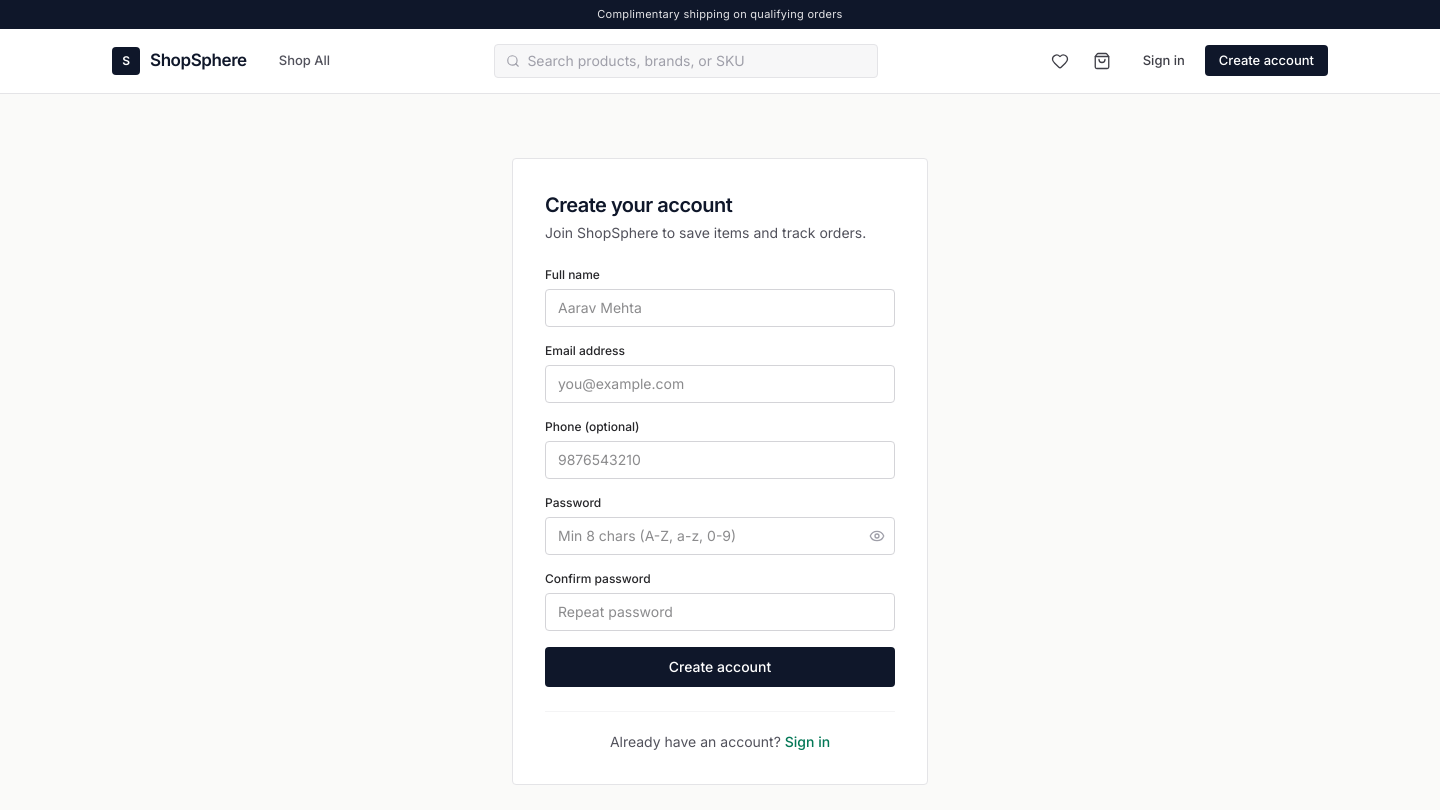
Test: Auth, Protected Routes, and Cart interactions › validates registration password strength before submitting
Expected: the heading "Create your account" is shown, top-left (545, 192), bottom-right (732, 216)
Type "Priya" into the field labelled "Full name".
click(720, 308); type("Priya")  # box top-left (545, 288), bottom-right (895, 326)
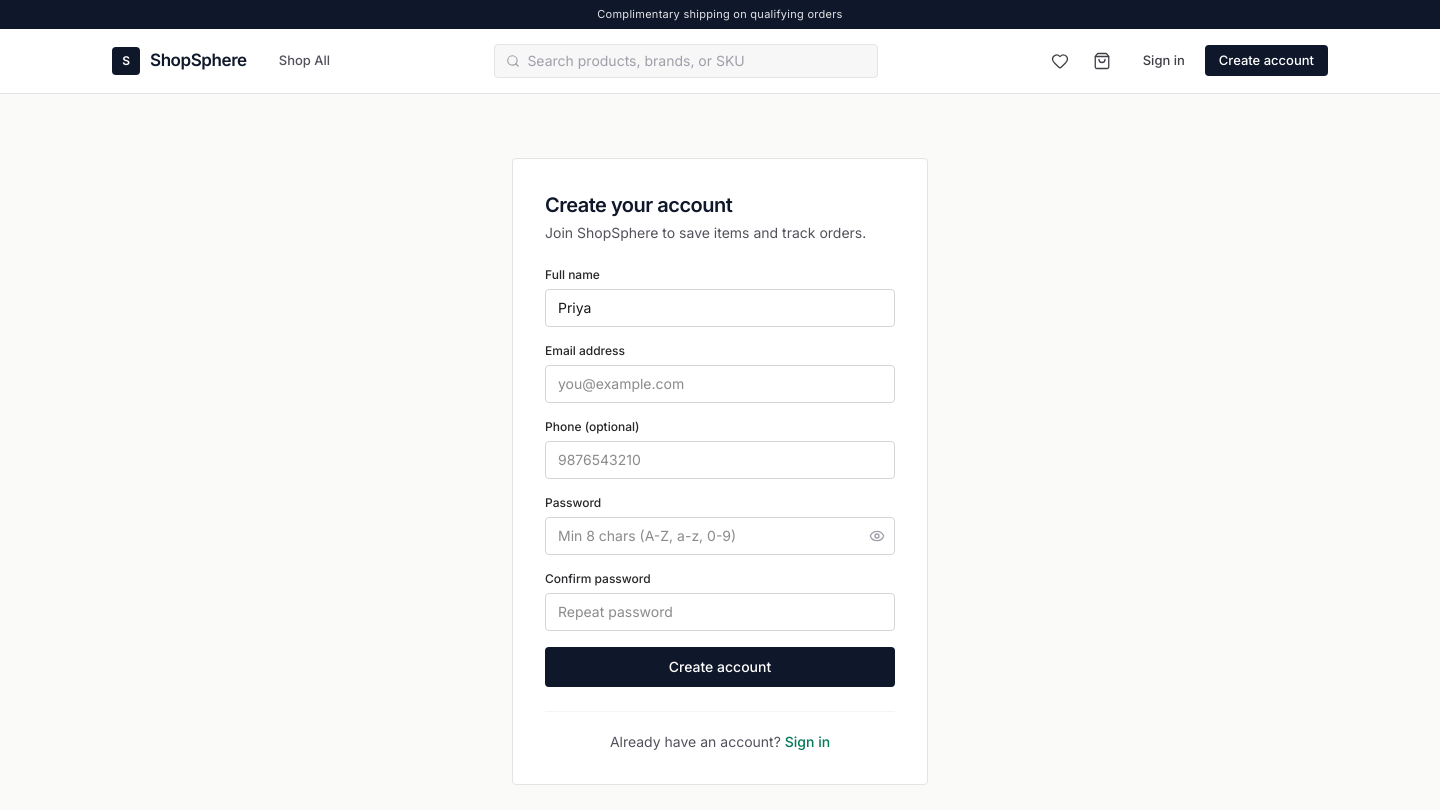
Type "priya@example.com" into the field labelled "Email address".
click(720, 384); type("priya@example.com")  # box top-left (545, 364), bottom-right (895, 402)
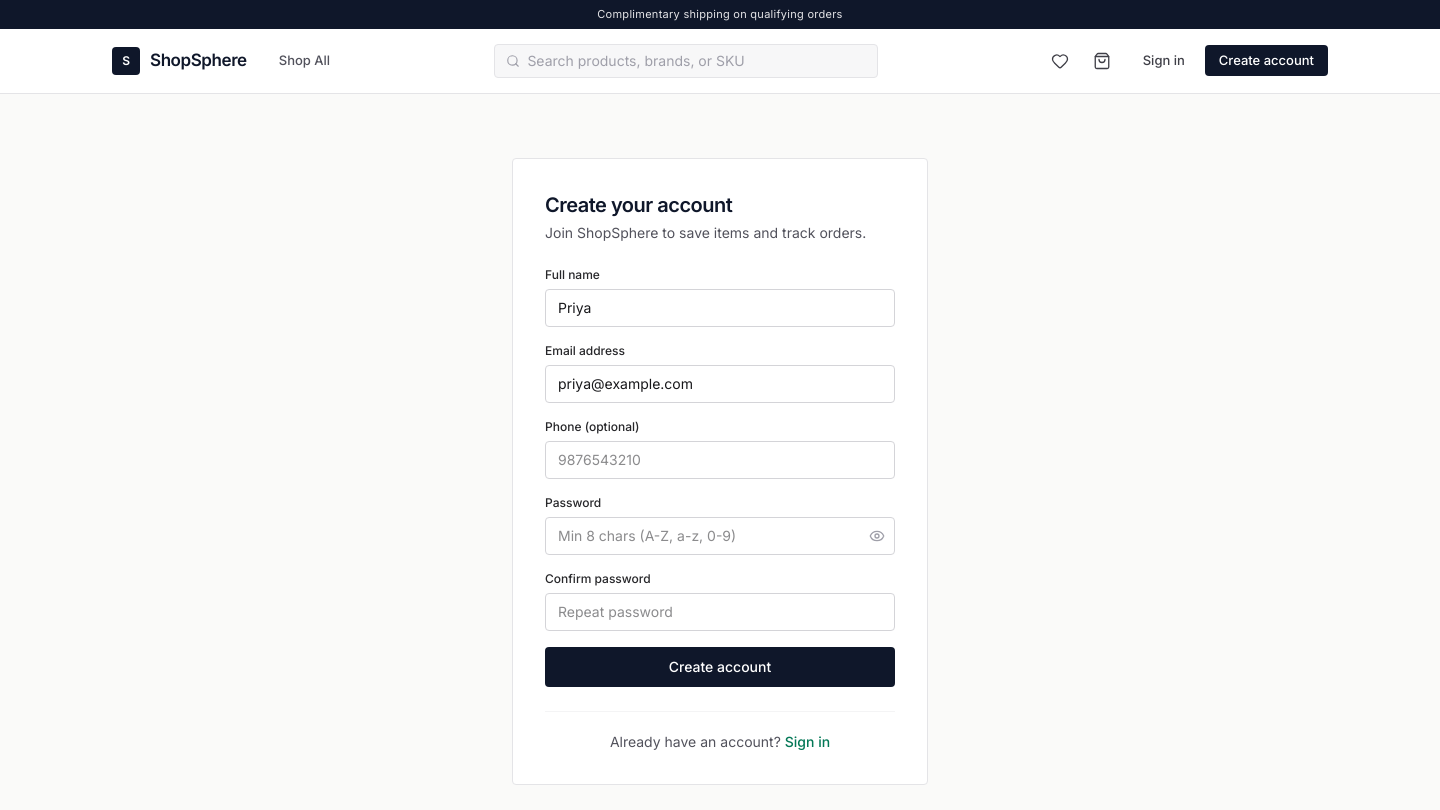
Type "weak" into the password field labelled "Password".
click(720, 536); type("weak")  # box top-left (545, 516), bottom-right (895, 554)
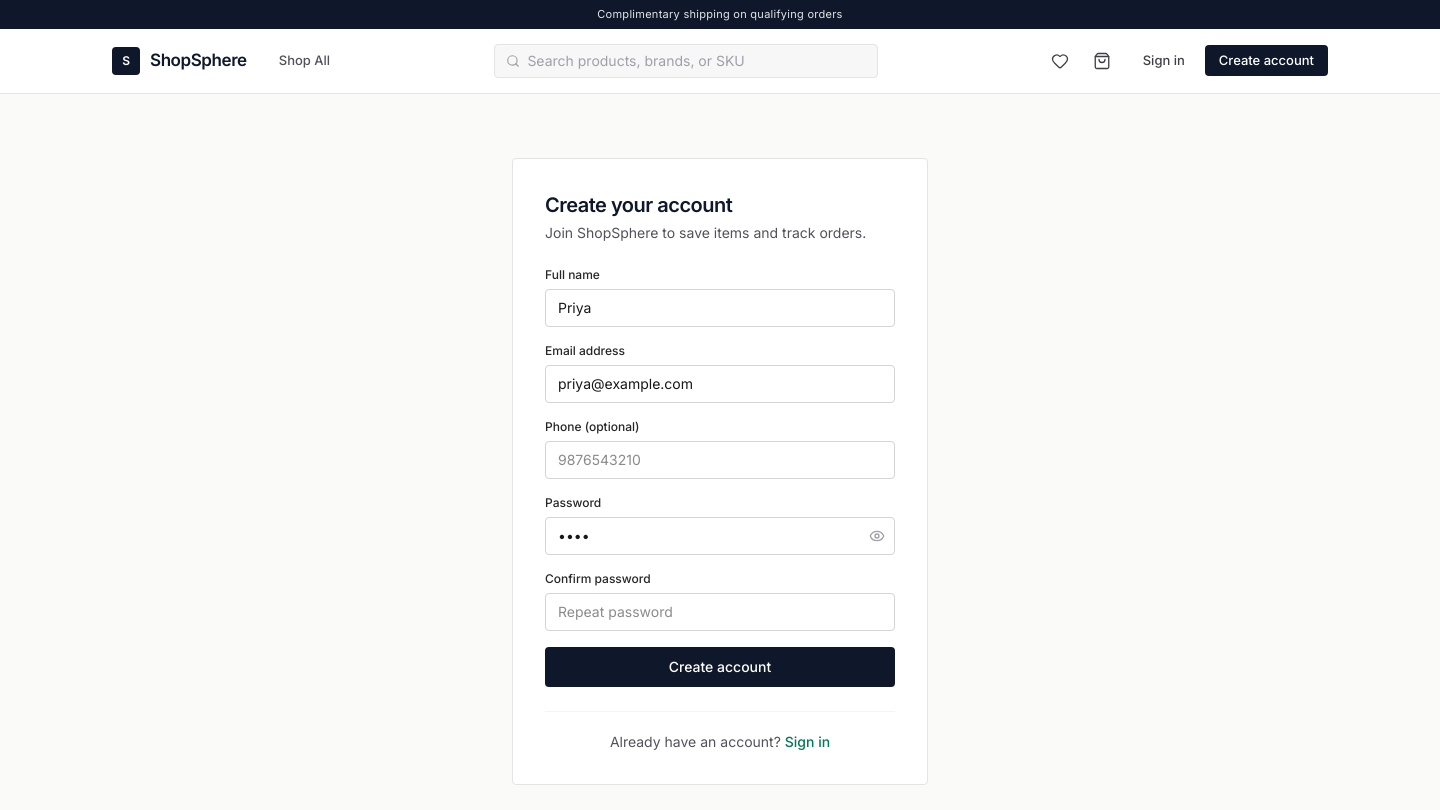
Type "weak" into the password field labelled "Confirm password".
click(720, 612); type("weak")  # box top-left (545, 592), bottom-right (895, 630)
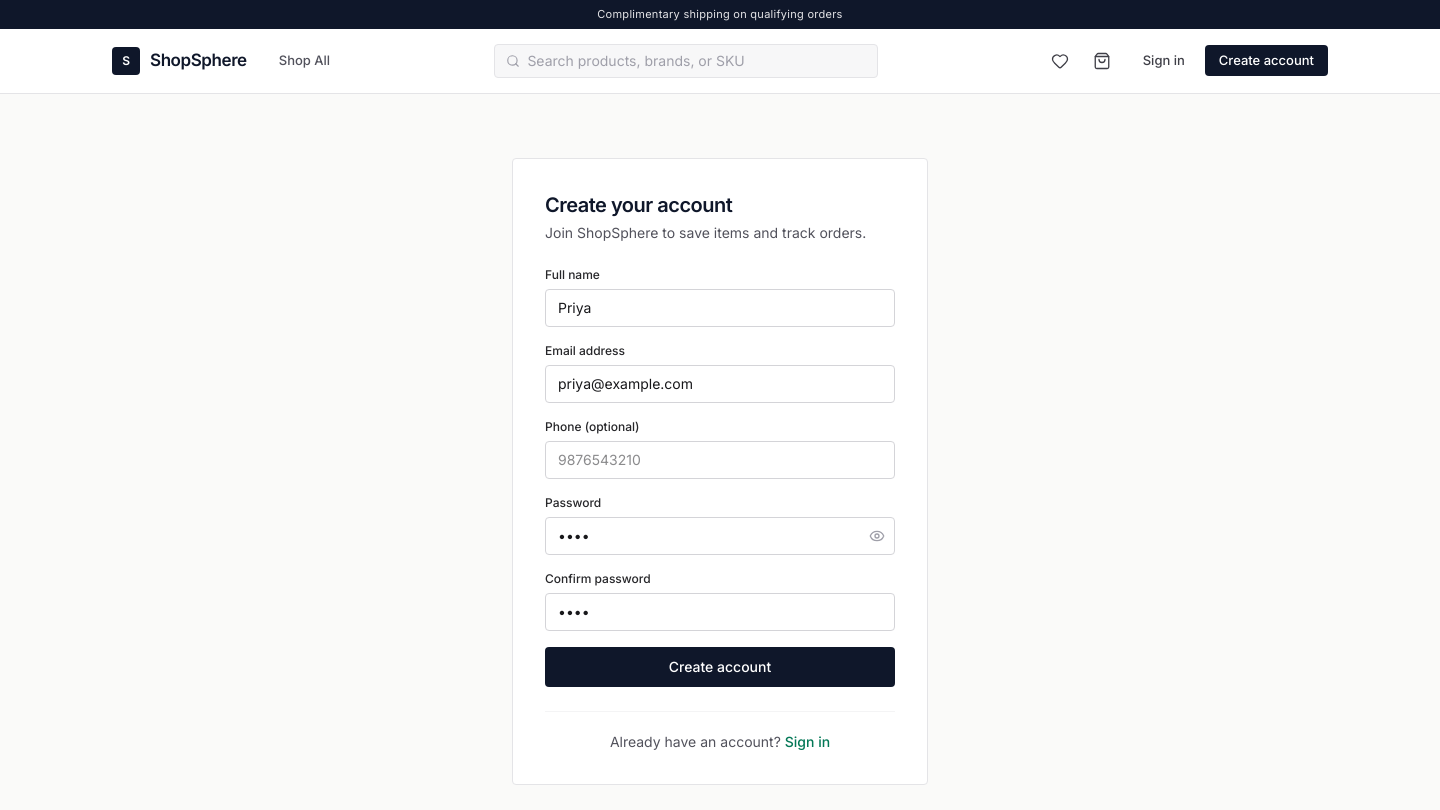
Click the button "Create account".
click(720, 666)  # box top-left (545, 646), bottom-right (895, 686)
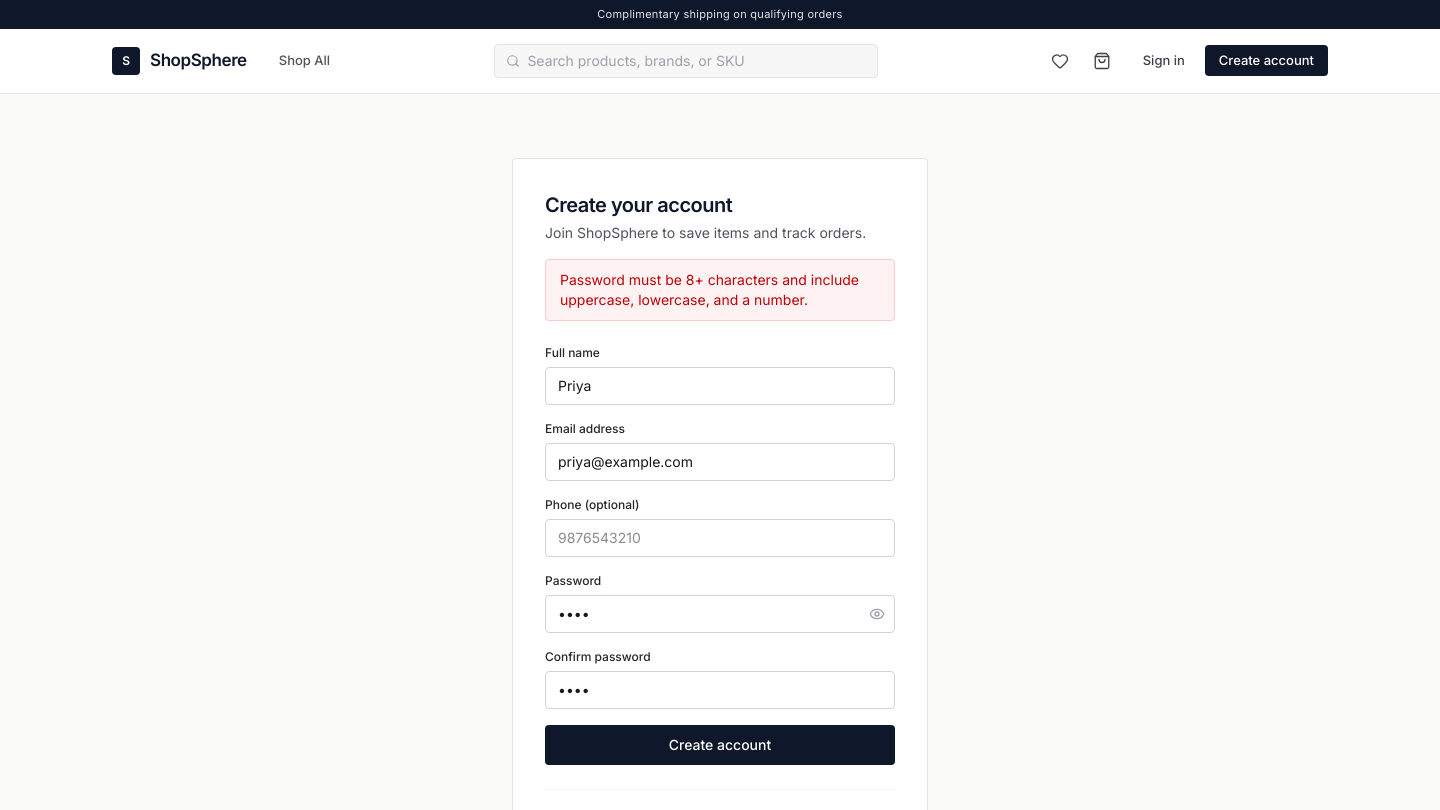
Result: the text "Password must be 8+ characters" is shown at top-left (560, 270), bottom-right (859, 308)
